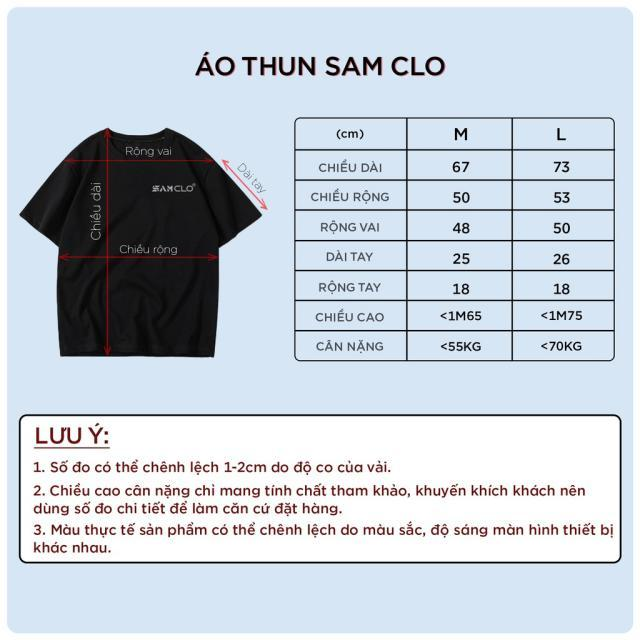Shirt: (20, 126, 266, 364)
